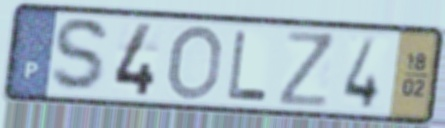4: (111, 20, 159, 99), (340, 33, 385, 113)
L: (226, 28, 271, 104)
O: (164, 22, 225, 103)
S: (47, 15, 114, 97)
Z: (277, 28, 337, 110)
